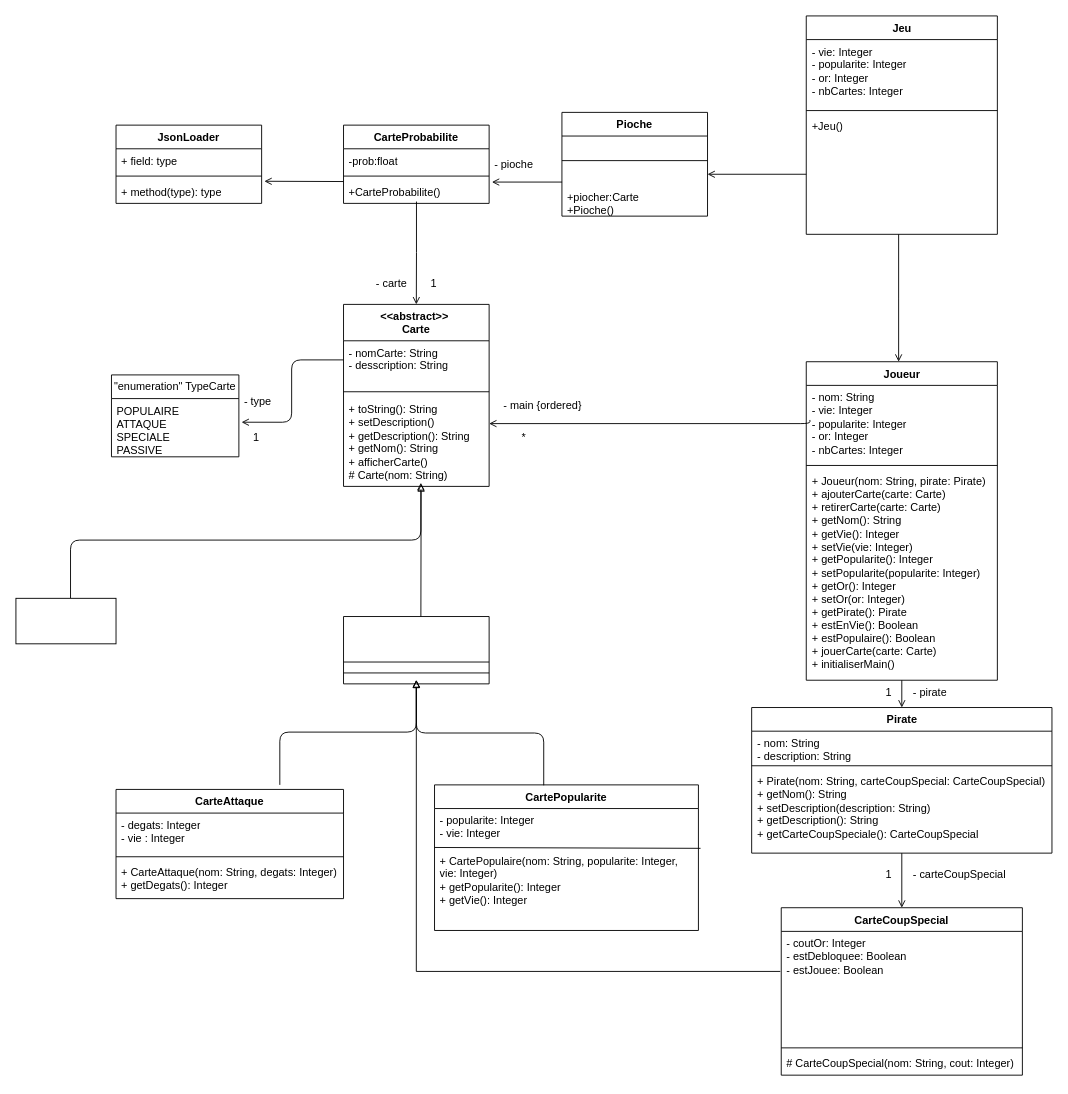
This 1068x1094 diagram has some shape labels left out. The shapes that lost their labels are listed below. From the top down, each one's centre as x and y in pixels, then its label:
At (65,620): "«abstract» CartePassive".
At (416,650): "<<abstract>> CarteActive".
